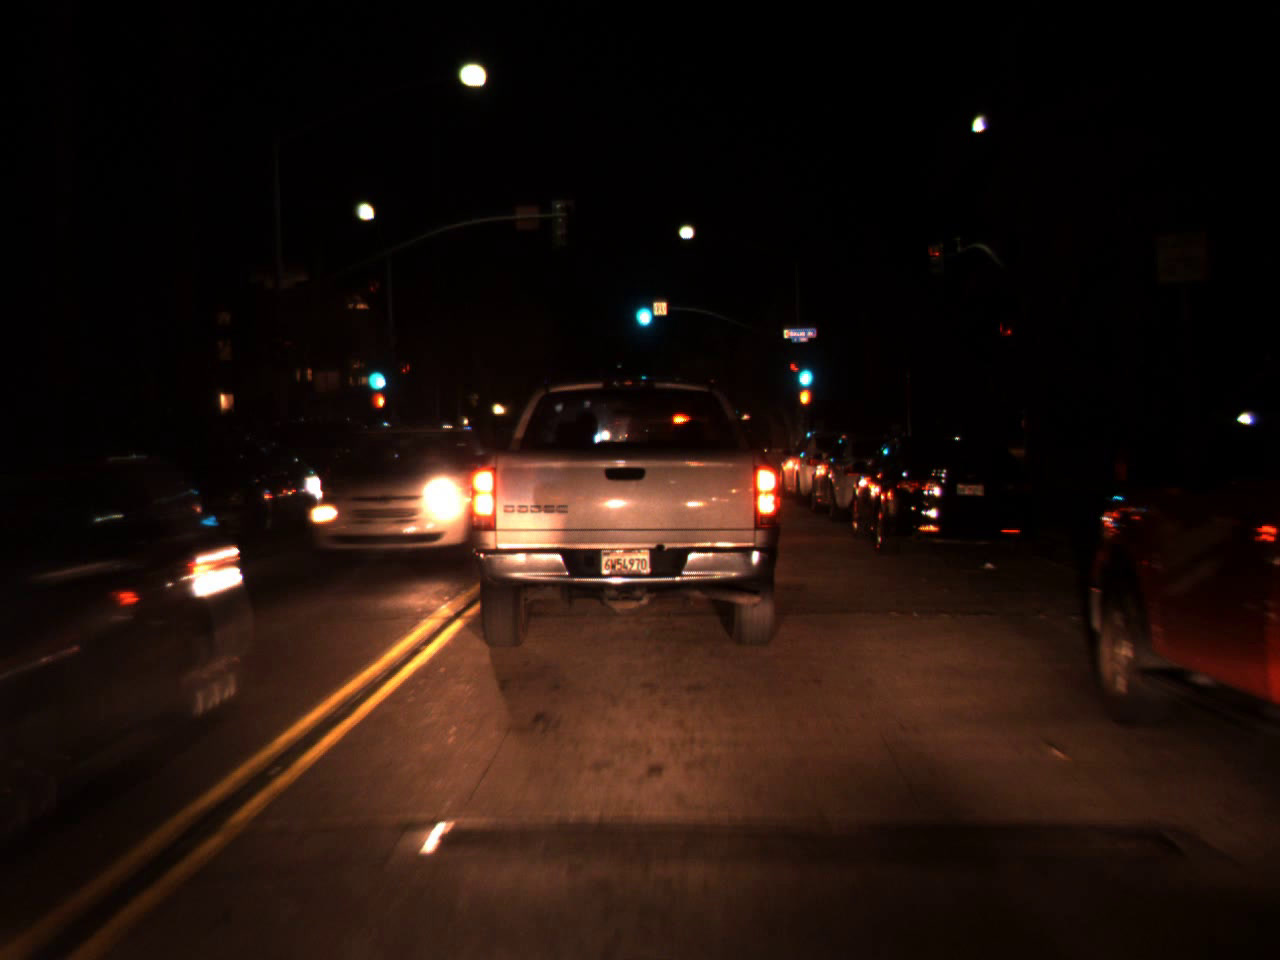go: (630, 285, 655, 333), (363, 353, 388, 395), (794, 348, 815, 393)
